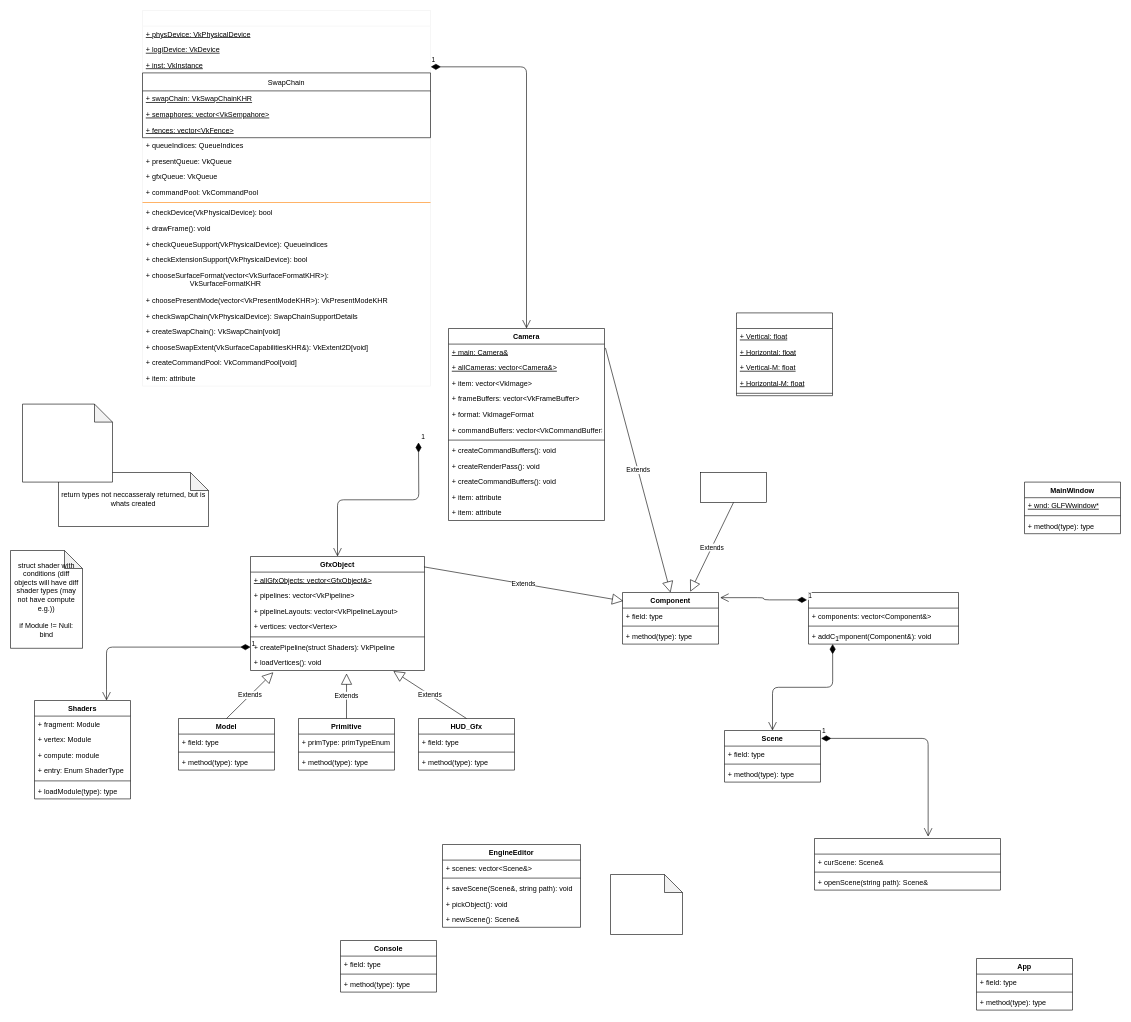
Image size: 1131x1022. Some labels were removed from this diagram. Each missing label, with the box of its shape:
CustomScript: (700, 472, 766, 502)
Game: (814, 838, 1000, 890)
Graphics: (142, 10, 430, 386)
Graphics for presenting/screen and global attributes swapChain is for presenting: (22, 404, 112, 482)
Input: (736, 312, 832, 396)
Object: (808, 592, 958, 644)
scene loading t not be implemented yet: (610, 874, 682, 934)
